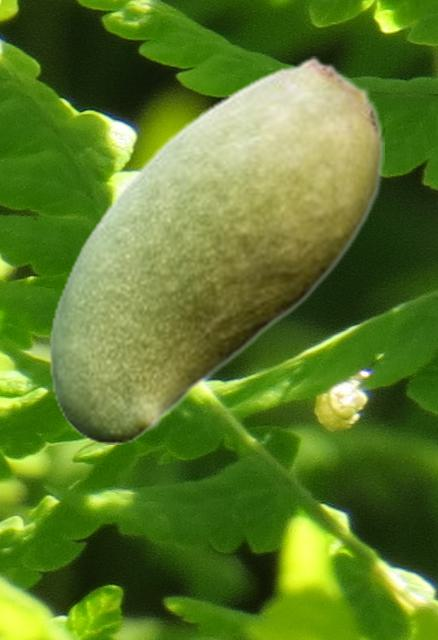green_mango: (48, 56, 383, 443)
